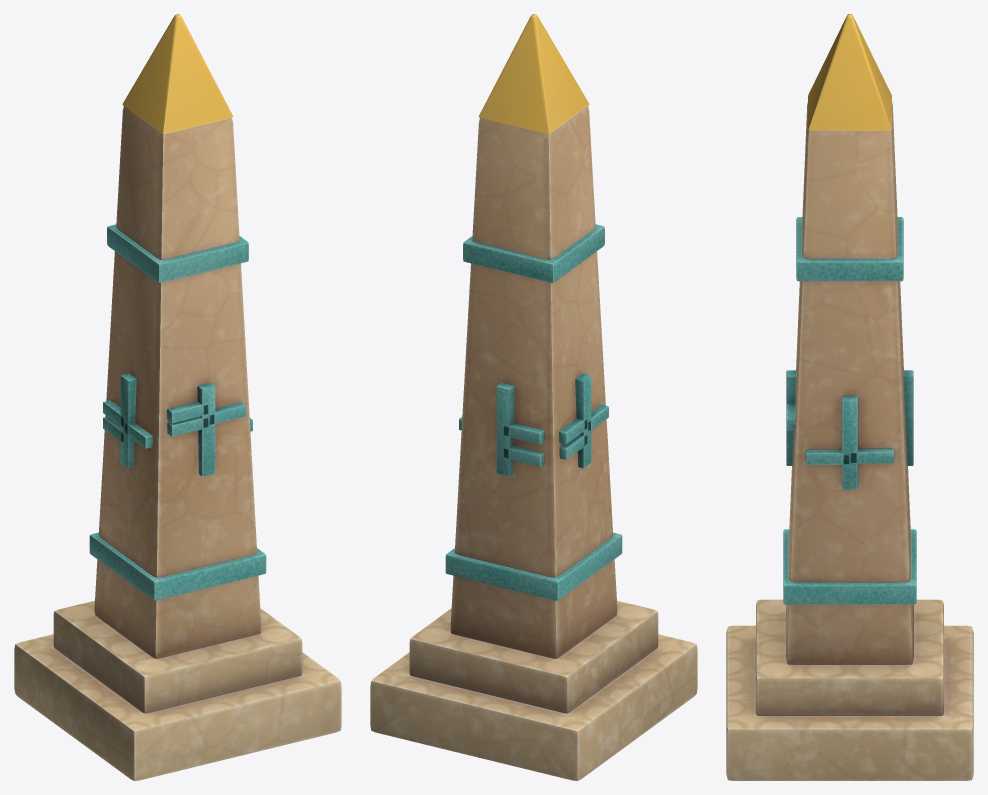
Rendered from Desert_Obelisque.fbx.
The picture shows the model from 3 angles, left to right: view 1: azimuth 30°, elevation 25°; view 2: azimuth 150°, elevation 25°; view 3: azimuth 270°, elevation 25°; orthographic projection. The views are drawn at different scales.
Parts seen in each view (by area): view 1: Desert_Obelisque; view 2: Desert_Obelisque; view 3: Desert_Obelisque.
Part boxes in pixels (bbox=[...]): Desert_Obelisque: bbox=[14, 14, 341, 780]; Desert_Obelisque: bbox=[370, 14, 697, 780]; Desert_Obelisque: bbox=[726, 14, 973, 780].
Size of the model in its own units: 500 by 1595 by 500.
Materials: 1 (1 with a texture image).
